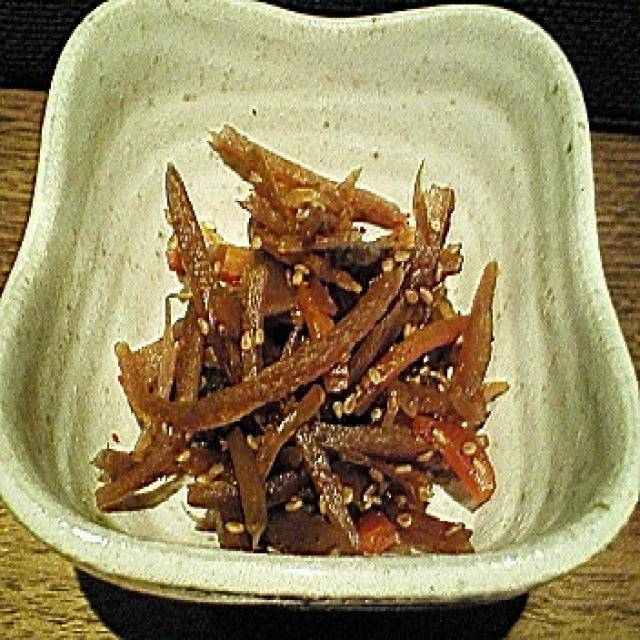蔬菜料理: (145, 129, 640, 640)
